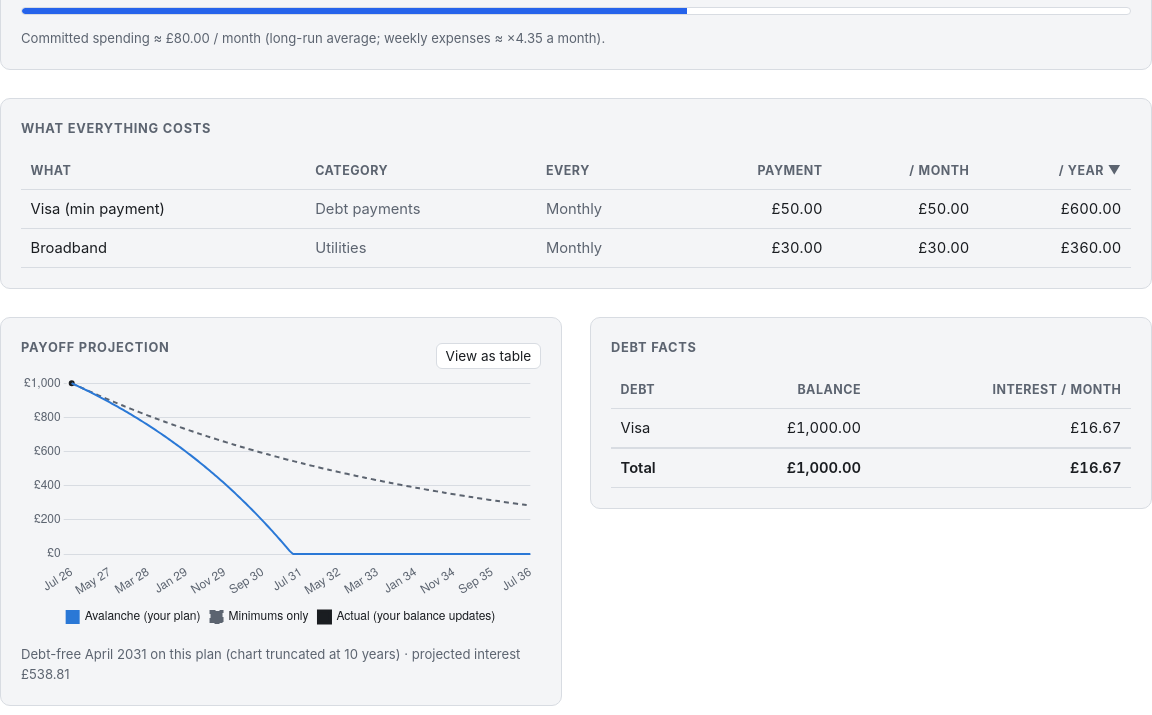
Dashboard v2 › payoff projection offers plan-vs-minimums as a table with the debt-free month
The image size is (1152, 715).
(page scrolled)
Expected: the heading "Payoff projection" is shown, [21,338,170,357]
Expected: the text "Debt-free" is shown, [21,646,85,662]
Click the button "View as table" at [488, 356], box [436,343,541,369]
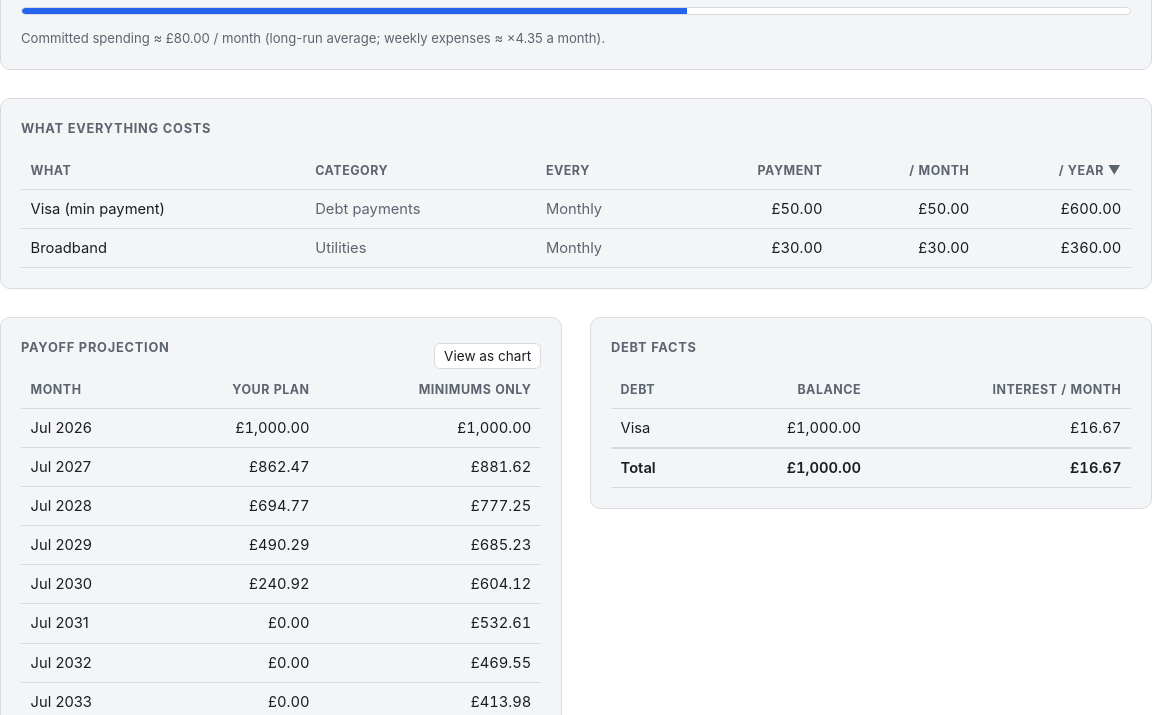
Now the table that starts with "Month" shows "Your plan", box [232,382,310,397]
Now the table that starts with "Month" shows "Minimums only", box [419,382,531,397]
Now the row "Jul 2026 £1,000.00 £1,000.00" is shown, box [21,409,541,448]
